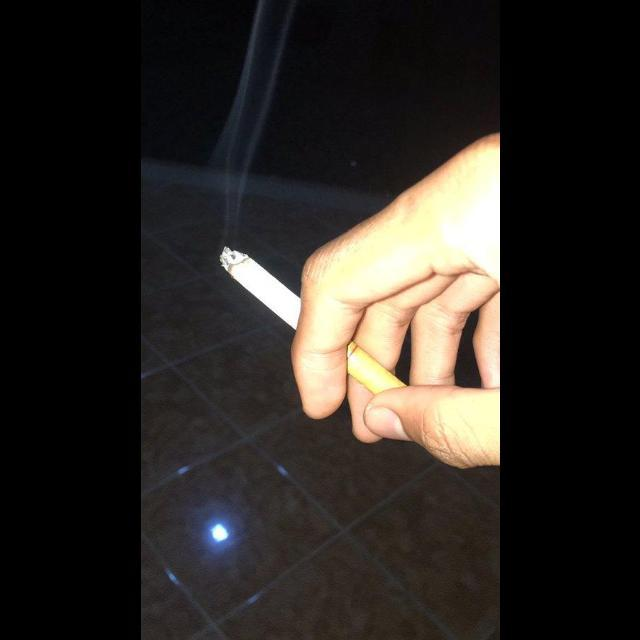rokok: (211, 240, 411, 404)
